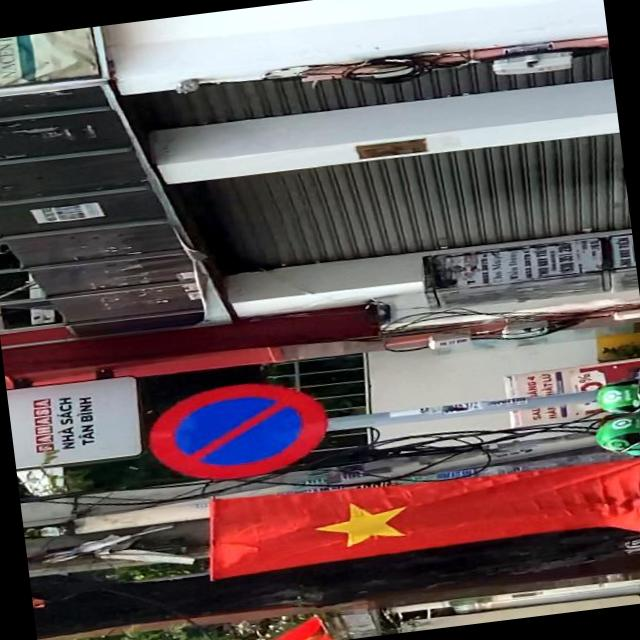P-131a: (144, 372, 332, 488)
